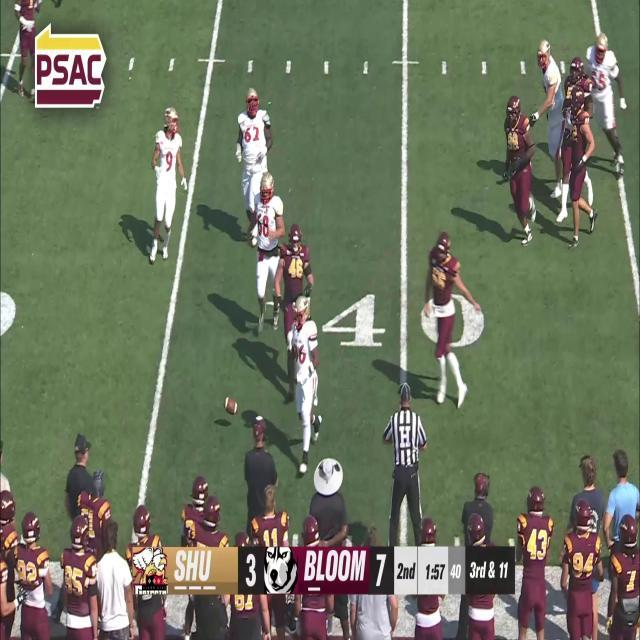football: (222, 395, 238, 415)
